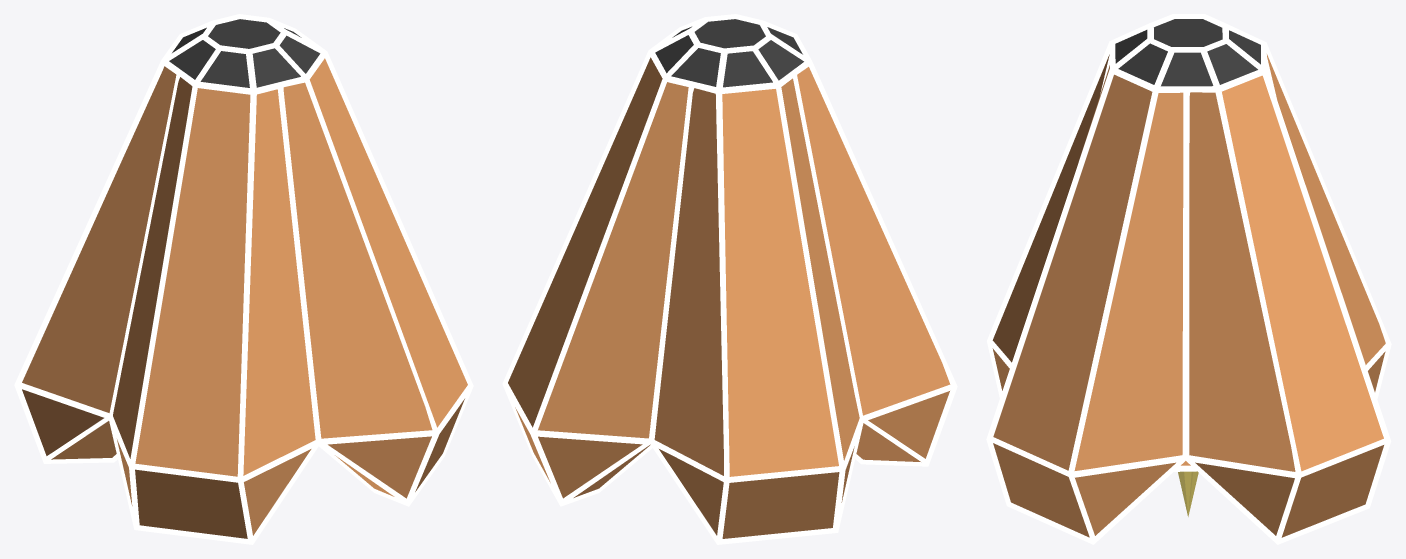
The model's file is player.gltf.
3 views of the same model, side by side, from view 1: azimuth 30°, elevation 25°; view 2: azimuth 150°, elevation 25°; view 3: azimuth 270°, elevation 25° (orthographic). The views are drawn at different scales.
Parts seen in each view (by area): view 1: Mesh, Mesh.001; view 2: Mesh, Mesh.001; view 3: Mesh, Mesh.001, InnerCone.
Part boxes in pixels (x1,y1,x2,y2): Mesh: [22, 19, 467, 538]; Mesh.001: [14, 14, 473, 544]; Mesh: [508, 19, 950, 538]; Mesh.001: [502, 14, 957, 544]; Mesh: [992, 19, 1385, 537]; Mesh.001: [986, 14, 1391, 544]; InnerCone: [1178, 471, 1198, 516].
Size of the model in its own units: 0.6301 by 0.8331 by 0.6283.
